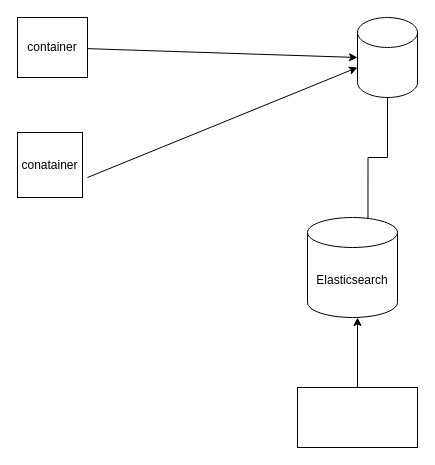
Image size: 435x465. Some labels were removed from this diagram. Each missing label, with the centre of its shape:
Fluentd: (387,57)
kibana: (357,417)
